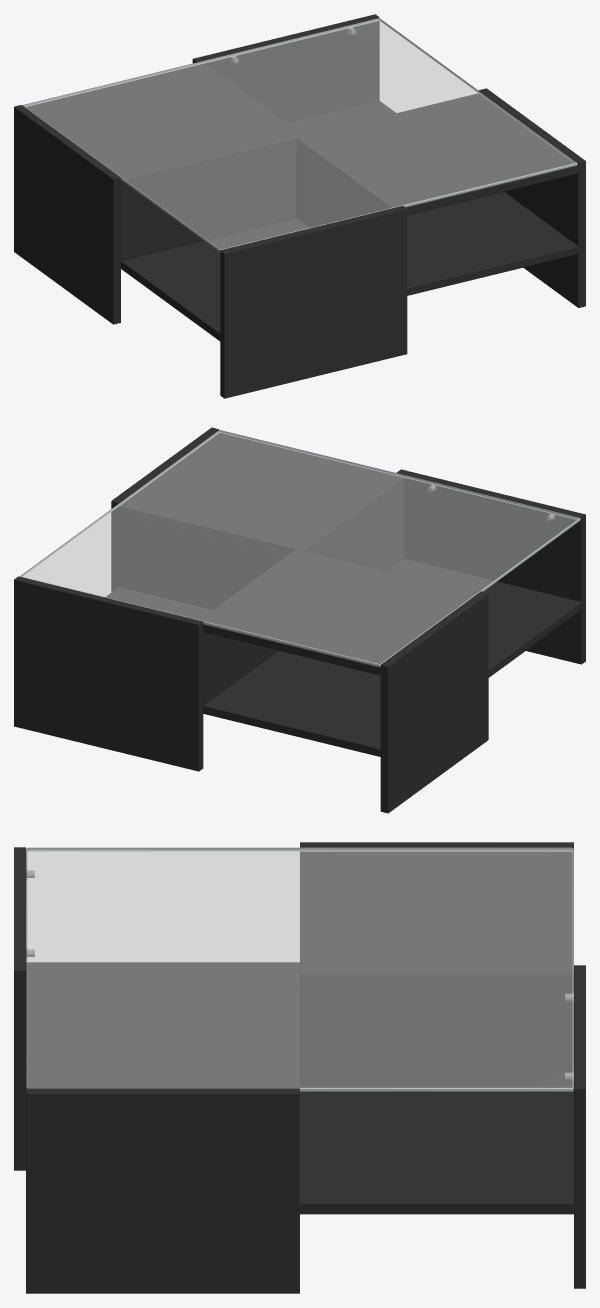
3 views of the same model, one above another, from view 1: azimuth 30°, elevation 25°; view 2: azimuth 150°, elevation 25°; view 3: azimuth 270°, elevation 25° (orthographic). The views are drawn at different scales.
Parts seen in each view (by area): view 1: 25131382; view 2: 25131382; view 3: 25131382.
Boxes of the visible parts, x1,y1,x2,y2 form: 25131382: (14,14,585,398); 25131382: (14,427,585,813); 25131382: (14,842,585,1293).
Bounding box in the file's own units: 0.796 × 0.296 × 0.766.
2 materials, 2 textured.
